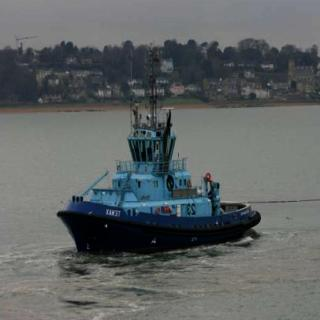Tug Boat: (58, 104, 258, 254)
